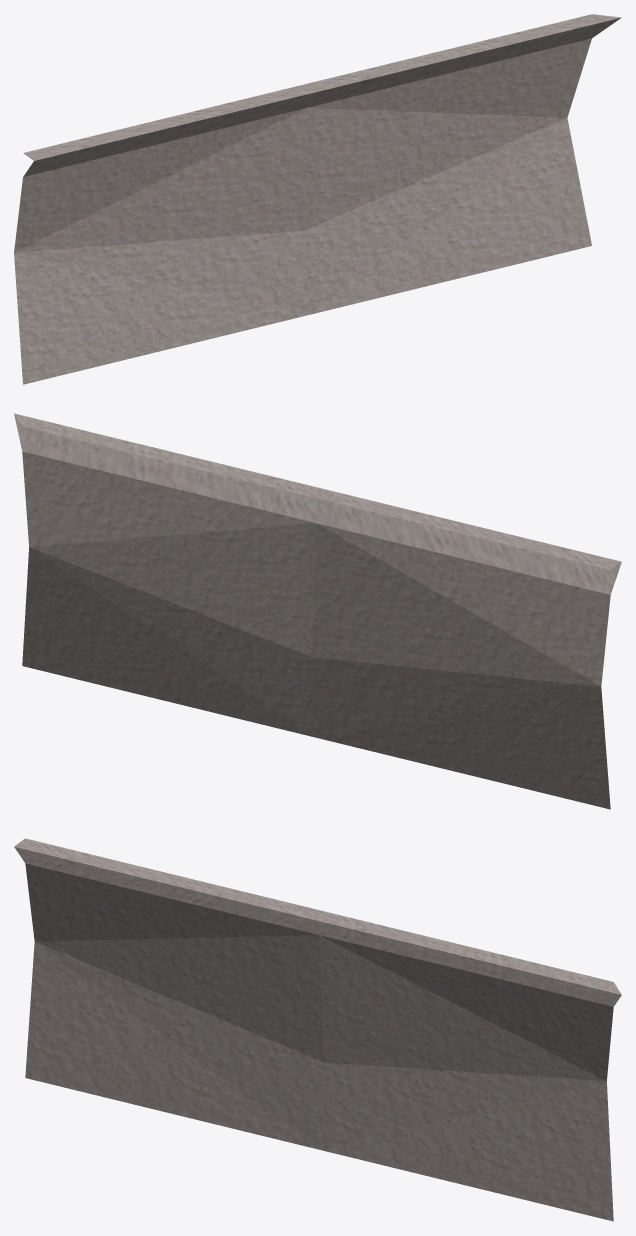
File: W_A2r_xxxx [Marmor]_1344.glb
3 views of the same model, one above another, from view 1: azimuth 30°, elevation 25°; view 2: azimuth 150°, elevation 25°; view 3: azimuth 330°, elevation 25° (orthographic). The views are drawn at different scales.
Parts seen in each view (by area): view 1: polySurfaceShape787, polySurfaceShape1065; view 2: polySurfaceShape787, polySurfaceShape1065; view 3: polySurfaceShape787, polySurfaceShape1065.
Boxes of the visible parts, x1,y1,x2,y2 form: polySurfaceShape787: (14, 38, 591, 384); polySurfaceShape1065: (23, 14, 621, 176); polySurfaceShape787: (22, 451, 610, 809); polySurfaceShape1065: (14, 413, 621, 594); polySurfaceShape787: (25, 863, 613, 1221); polySurfaceShape1065: (14, 838, 621, 1006).
Size of the model in its own units: 1.03 by 0.3891 by 0.0607.
2 materials, 2 textured.
